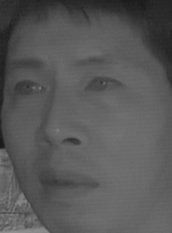eye: (85, 72, 124, 99), (11, 76, 48, 100)
mouth: (35, 165, 98, 203)
